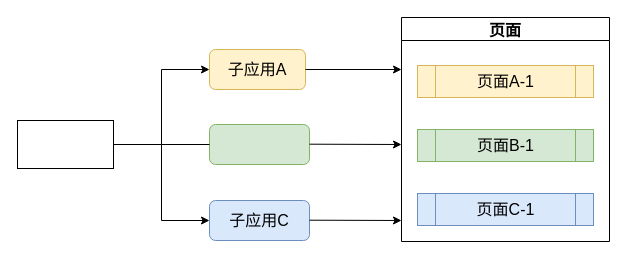
The diagram is 627 pixels wide and 259 high, and some of its shapes have lost their labels. Here are the shapes that lost their labels. From the top down, the centre of each, then its label:
At pixel 65 144: "主应用".
At pixel 259 144: "子应用B".
